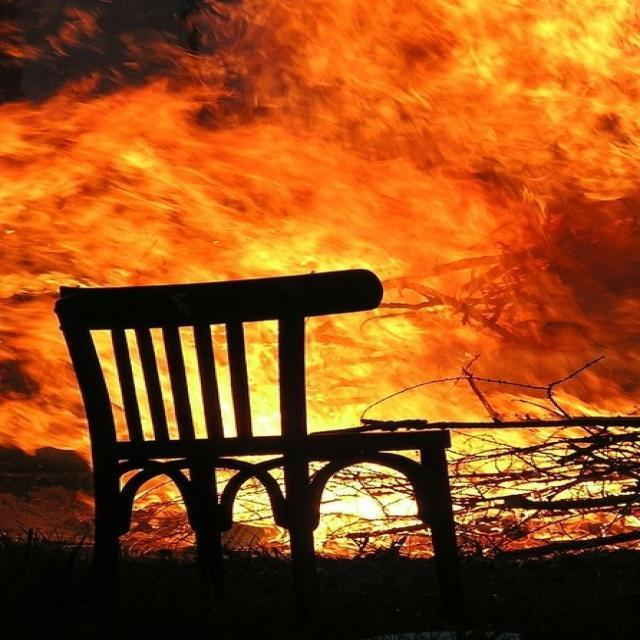Fire: (0, 0, 639, 571)
